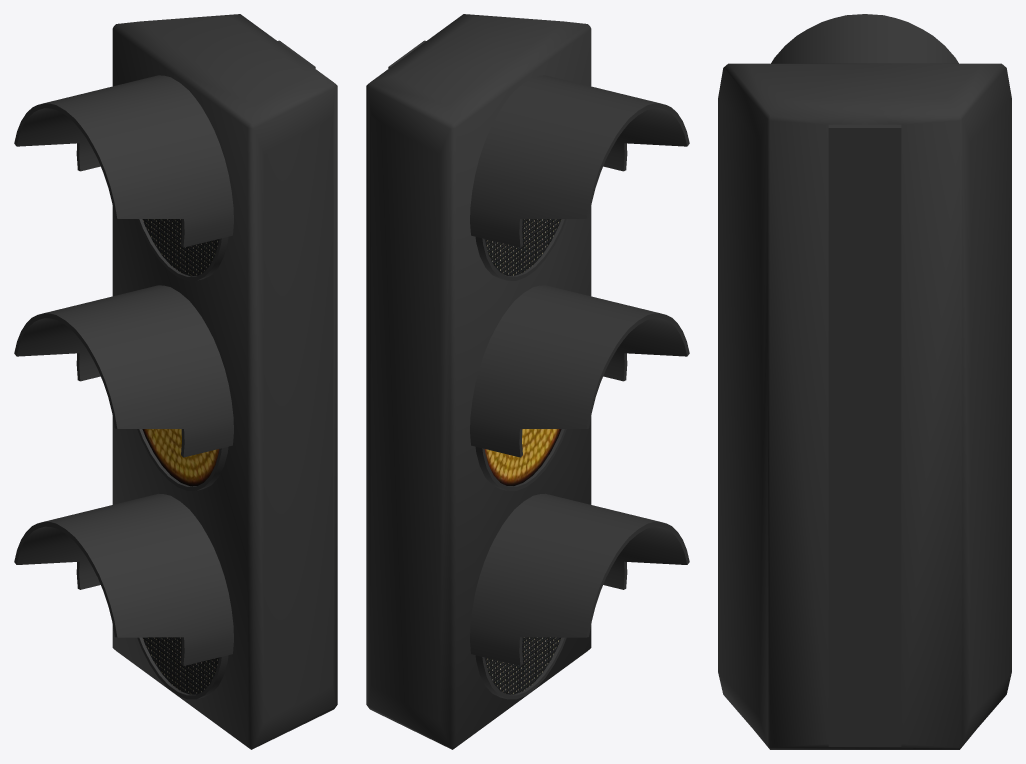
Rendered from 竖排全方位灯_YellowLight.fbx.
3 views of the same model, side by side, from view 1: azimuth 30°, elevation 25°; view 2: azimuth 150°, elevation 25°; view 3: azimuth 270°, elevation 25° (orthographic).
Parts seen in each view (by area): view 1: 竖排全方位灯_YellowLight; view 2: 竖排全方位灯_YellowLight; view 3: 竖排全方位灯_YellowLight.
Boxes of the visible parts, bbox=[...] form: 竖排全方位灯_YellowLight: bbox=[14, 14, 337, 749]; 竖排全方位灯_YellowLight: bbox=[366, 14, 689, 749]; 竖排全方位灯_YellowLight: bbox=[718, 14, 1011, 749].
Bounding box in the file's own units: 0.6 × 1.58 × 0.65.
3 materials, 2 textured.
